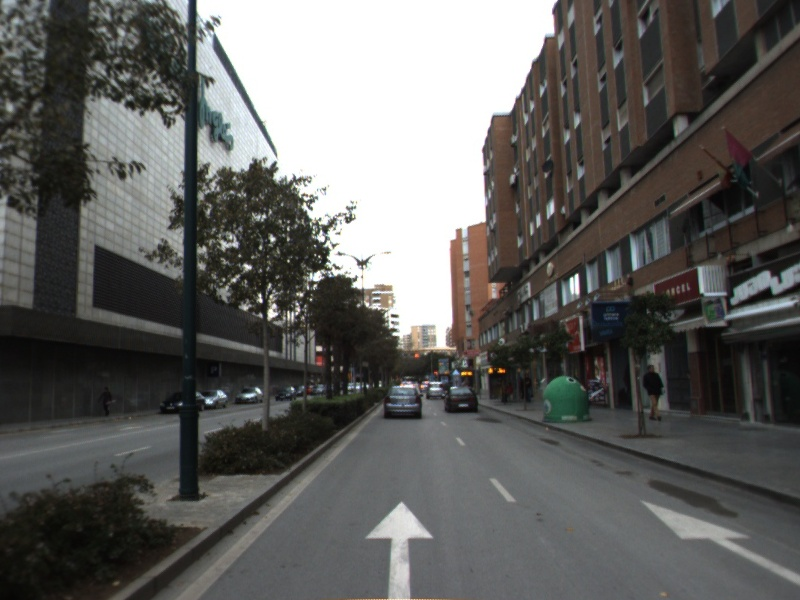STRAIGHT: (637, 496, 800, 585), (361, 498, 438, 600)
